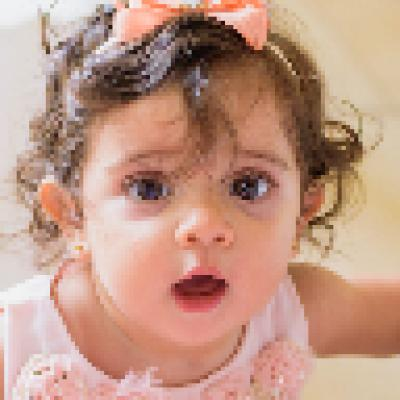surprise: (88, 62, 295, 338)
